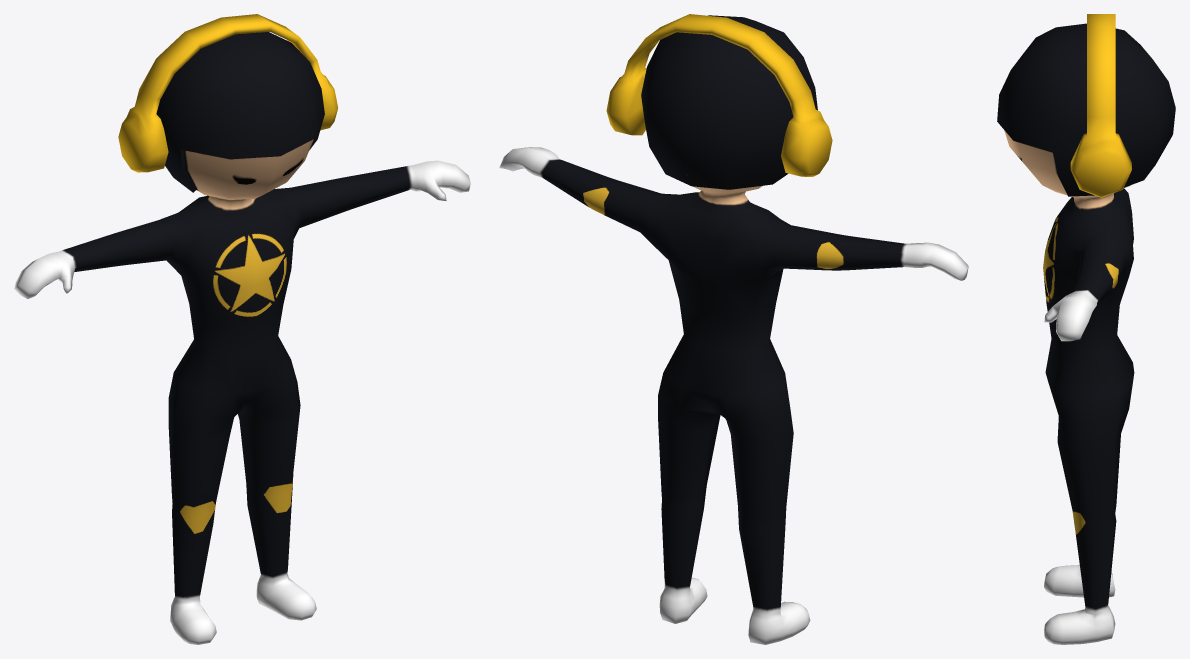
The model's file is boss_01.FBX.
3 renders of one model, left to right at view 1: azimuth 30°, elevation 25°; view 2: azimuth 150°, elevation 25°; view 3: azimuth 270°, elevation 25°, orthographic. The views are drawn at different scales.
Visible parts, largest first — view 1: Cylinder001; view 2: Cylinder001; view 3: Cylinder001.
Part boxes in pixels (left/top/right/bottom): Cylinder001: left=14, top=14, right=470, bottom=644; Cylinder001: left=499, top=14, right=968, bottom=644; Cylinder001: left=997, top=14, right=1175, bottom=644.
Bounding box in the file's own units: 1.04 × 1.31 × 0.36.
1 material, 1 textured.
